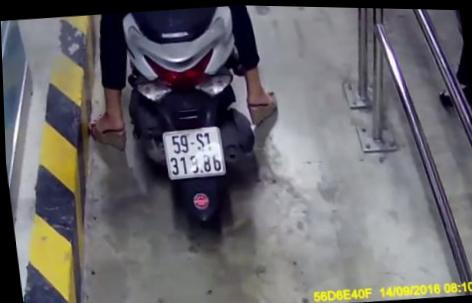LP: (160, 122, 227, 182)
